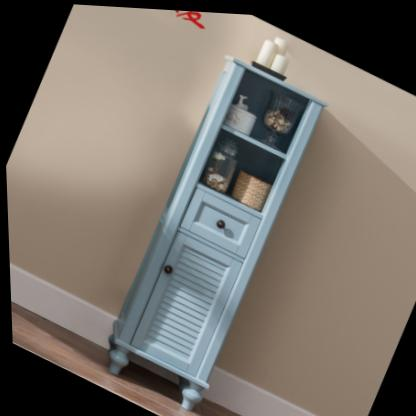Cupboard: (104, 54, 325, 409)
